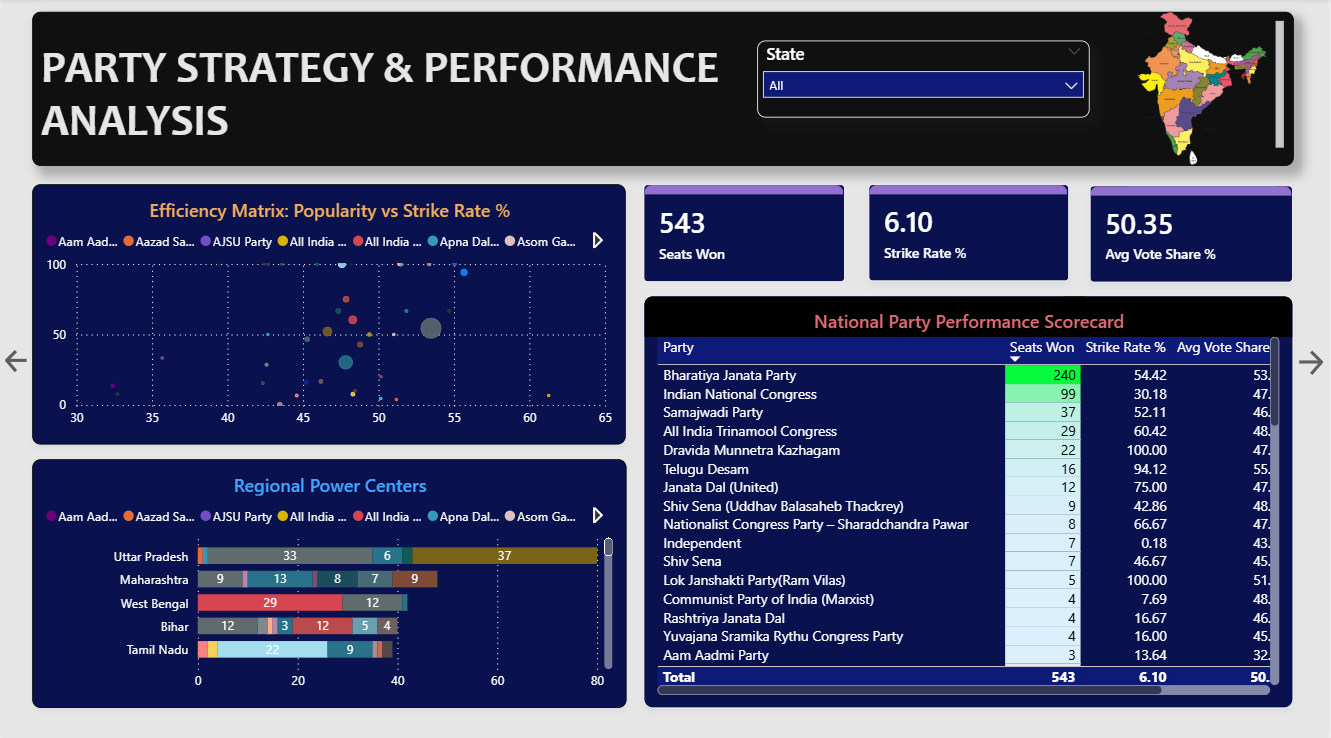

Layout of this report page (visuals, bound fields, positions):
{"tool":"powerbi","page":{"name":"Party strategy & performance analysis","canvas":[1280,720],"ordinal":1},"visuals":[{"type":"textbox","box":[30,13.8,1217.5,148.8],"z":0},{"type":"scatterChart","title":"Efficiency Matrix: Popularity vs Strike Rate % ","fields":{"X":["GE_2024_Results.Avg Vote Share %"],"Y":["GE_2024_Results.Strike Rate %"],"Size":["GE_2024_Results.Total Seats Won"],"Series":["GE_2024_Results.Party"]},"box":[30,180,572.9,251.4],"z":1000},{"type":"barChart","title":"Regional Power Centers","fields":{"Category":["GE_2024_Results.State"],"Y":["GE_2024_Results.Total Seats Won"],"Series":["GE_2024_Results.Party"]},"box":[30,445,573.3,240],"z":2000},{"type":"tableEx","title":"National Party Performance Scorecard","fields":{"Values":["GE_2024_Results.Party","GE_2024_Results.Seats Won","GE_2024_Results.Strike Rate %","GE_2024_Results.Avg Vote Share %","GE_2024_Results.Avg Win Margin"]},"box":[620,287.1,627.1,398.6],"z":3000},{"type":"slicer","fields":{"Values":["GE_2024_Results.State"]},"box":[729.9,41,320.9,74.8],"z":4000},{"type":"image","box":[1088.2,13.3,141.2,148.4],"z":5000},{"type":"cardVisual","title":"Win Percentage","fields":{"Data":["GE_2024_Results.Seats Won"]},"box":[620.1,179.8,194.2,94.1],"z":6000},{"type":"cardVisual","title":"Win Percentage","fields":{"Data":["GE_2024_Results.Strike Rate %"]},"box":[837.5,180,193.8,93.8],"z":7000},{"type":"cardVisual","title":"Win Percentage","fields":{"Data":["GE_2024_Results.Avg Vote Share %"]},"box":[1051.2,181.2,196.2,93.8],"z":8000},{"type":"actionButton","box":[0,330.6,30.2,39.8],"z":9000},{"type":"actionButton","box":[1247.5,331.8,32.6,39.8],"z":10000}]}

Visuals, with their boxes in screenshot pixels (x1, y1, x2, y2), scaled from the page's 1280x720 canvas onto the 1331x738 screenshot:
textbox: <box>31,14,1297,167</box>
"Efficiency Matrix: Popularity vs Strike Rate % " scatterChart: <box>31,184,627,442</box>
"Regional Power Centers" barChart: <box>31,456,627,702</box>
"National Party Performance Scorecard" tableEx: <box>645,294,1297,703</box>
slicer - GE_2024_Results.State: <box>759,42,1093,119</box>
image: <box>1132,14,1278,166</box>
"Win Percentage" cardVisual: <box>645,184,847,281</box>
"Win Percentage" cardVisual: <box>871,184,1072,281</box>
"Win Percentage" cardVisual: <box>1093,186,1297,282</box>
actionButton: <box>0,339,31,380</box>
actionButton: <box>1297,340,1330,381</box>
